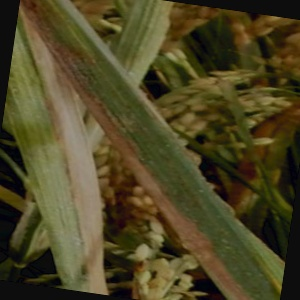Leaf_Blast: (172, 178, 286, 300), (13, 48, 78, 214)
